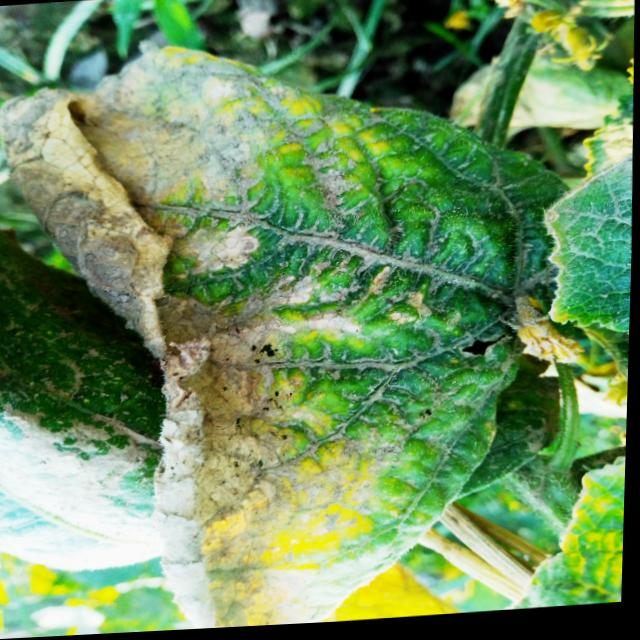Gummy-Stem-Blight: (0, 41, 360, 629)
